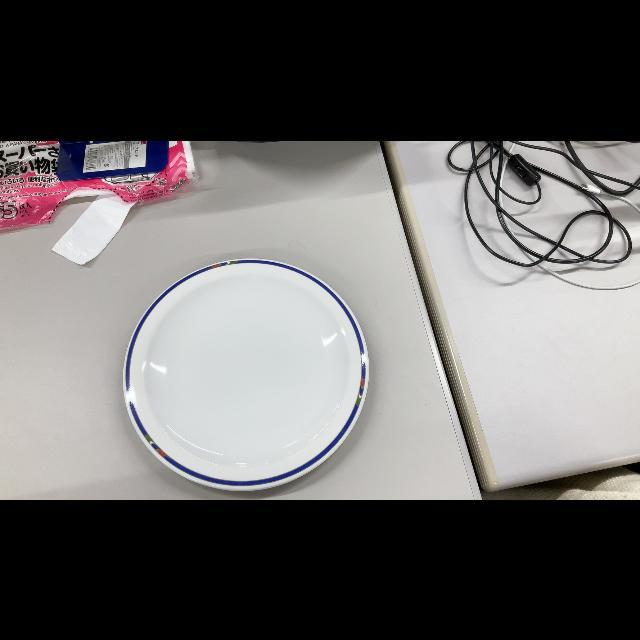plate: (120, 258, 370, 497)
